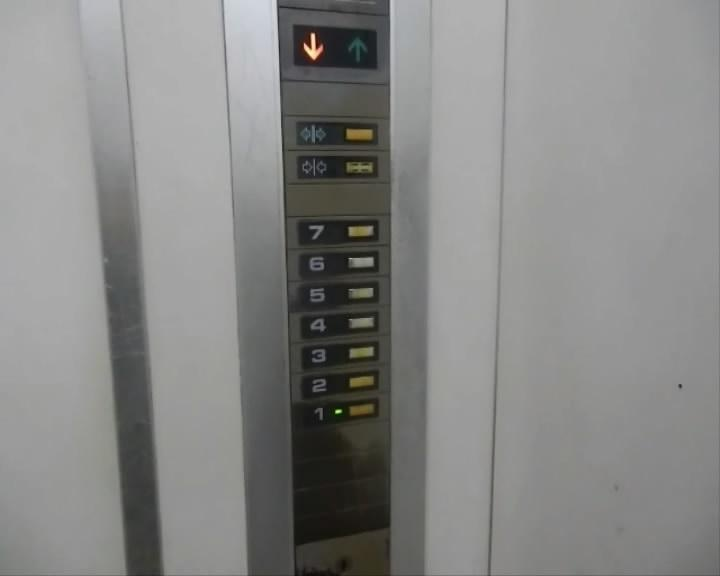1: (301, 397, 379, 427)
2: (300, 367, 378, 398)
3: (299, 339, 381, 368)
4: (299, 309, 380, 338)
5: (298, 279, 380, 307)
6: (297, 250, 381, 277)
7: (295, 218, 381, 244)
close: (296, 154, 379, 181)
open: (295, 119, 380, 146)
